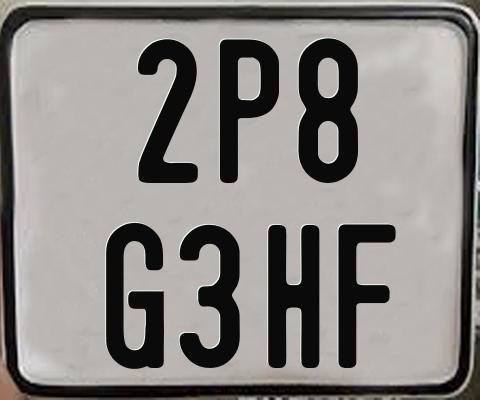2: (136, 39, 198, 187)
3: (177, 224, 242, 370)
8: (295, 36, 356, 182)
F: (338, 224, 402, 370)
G: (106, 220, 167, 370)
H: (268, 225, 321, 370)
P: (220, 39, 280, 187)
